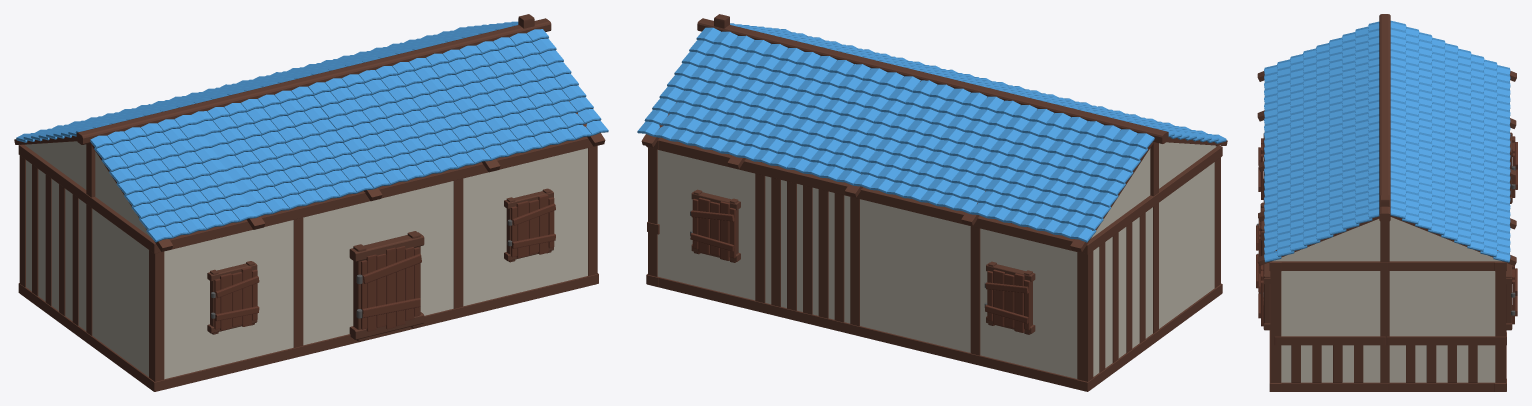
Rendered from rumah sih keknya.fbx.
The picture shows the model from 3 angles, left to right: view 1: azimuth 30°, elevation 25°; view 2: azimuth 150°, elevation 25°; view 3: azimuth 270°, elevation 25°; orthographic projection. The views are drawn at different scales.
Parts seen in each view (by area): view 1: Plane.004, Cube.167, Cube.166, Cube.168, Cube.169, Plane.005, Plane.001, Plane.006, Plane.007, Cube.170, Cube.053, Cube.054 (+35 smaller); view 2: Cube.131, Cube.143, Cube.150, Plane.010, Cube.157, Plane.008, Plane.011, Cube.059, Plane.006, Plane.009, Plane.007, Cube.053 (+27 smaller); view 3: Plane.013, Plane.012, Cube.166, Cube.143, Cube.131, Cube.150, Cube.168, Cube.167, Cube.157, Cube.169, Cube.154, Cube.146 (+16 smaller).
Part boxes in pixels (<box>): Plane.004: <box>270,174,482,353</box>; Cube.167: <box>308,58,490,189</box>; Cube.166: <box>426,29,608,160</box>; Cube.168: <box>191,86,373,217</box>; Cube.169: <box>90,115,256,242</box>; Plane.005: <box>164,225,270,379</box>; Plane.001: <box>482,148,587,301</box>; Plane.006: <box>92,208,148,376</box>; Plane.007: <box>26,160,86,330</box>; Cube.170: <box>76,18,551,144</box>; Cube.053: <box>32,164,92,335</box>; Cube.054: <box>149,250,164,381</box>; Cube.131: <box>970,109,1154,242</box>; Cube.143: <box>853,80,1037,213</box>; Cube.150: <box>737,52,920,185</box>; Plane.010: <box>870,201,970,352</box>; Cube.157: <box>637,27,804,156</box>; Plane.008: <box>657,150,755,300</box>; Plane.011: <box>980,228,1077,378</box>; Cube.059: <box>758,175,859,326</box>; Plane.006: <box>1159,162,1214,328</box>; Plane.009: <box>765,176,870,328</box>; Plane.007: <box>1093,207,1152,376</box>; Cube.053: <box>1099,203,1158,372</box>; Plane.013: <box>1389,271,1495,382</box>; Plane.012: <box>1281,271,1380,382</box>; Cube.166: <box>1264,164,1379,262</box>; Cube.143: <box>1390,71,1510,167</box>; Cube.131: <box>1390,20,1510,117</box>; Cube.150: <box>1390,121,1510,217</box>; Cube.168: <box>1264,64,1379,160</box>; Cube.167: <box>1264,114,1379,210</box>; Cube.157: <box>1390,171,1510,262</box>; Cube.169: <box>1264,21,1379,109</box>; Cube.154: <box>1390,217,1501,261</box>; Cube.146: <box>1272,219,1389,261</box>.
Size of the model in its own units: 2768 by 1241 by 1535.
